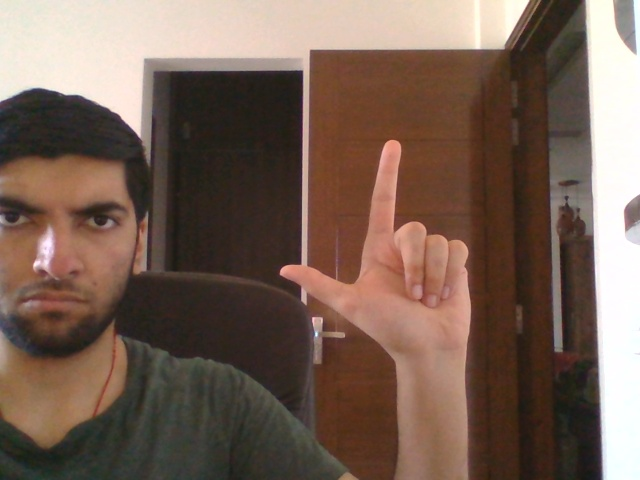LetterL: (279, 138, 472, 359)
